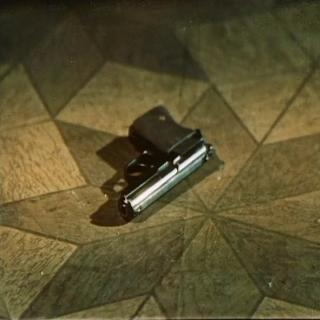gun: (111, 92, 217, 233)
